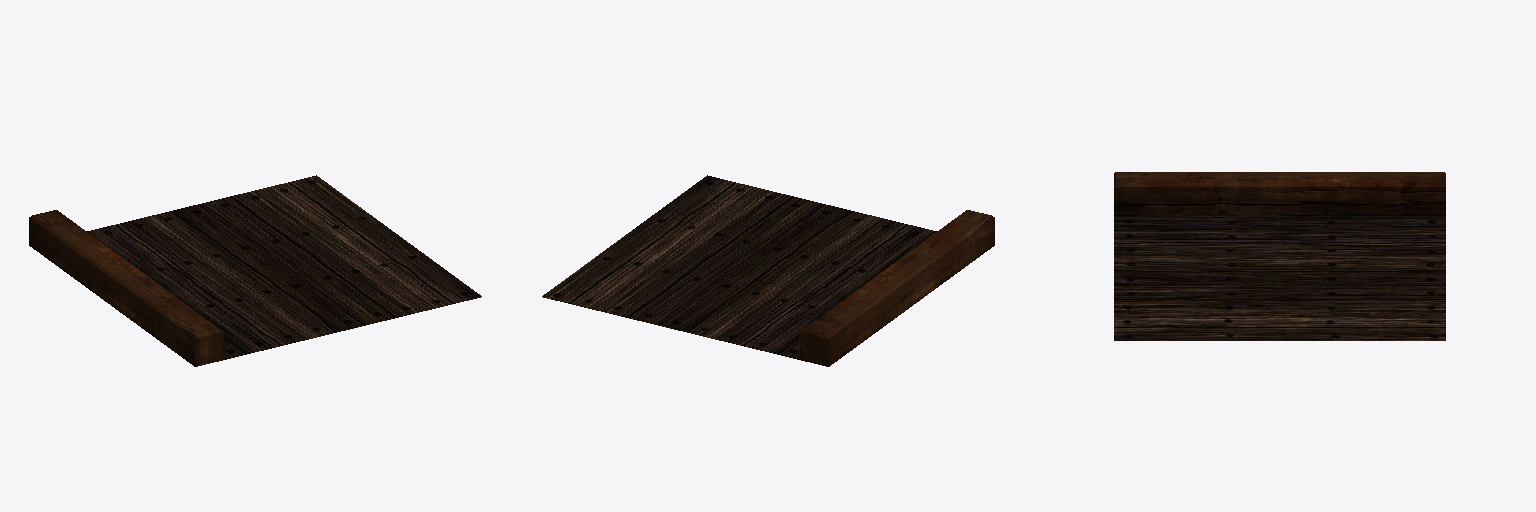
3 views of the same model, side by side, from view 1: azimuth 30°, elevation 25°; view 2: azimuth 150°, elevation 25°; view 3: azimuth 270°, elevation 25° (orthographic).
Visible parts, largest first — view 1: Roof001_Flat011; view 2: Roof001_Flat011; view 3: Roof001_Flat011.
Boxes of the visible parts, x1,y1,x2,y2 form: Roof001_Flat011: [29, 175, 481, 366]; Roof001_Flat011: [542, 175, 994, 366]; Roof001_Flat011: [1114, 172, 1445, 340].
Size of the model in its own units: 128 by 13 by 128.
Materials: 1 (1 with a texture image).